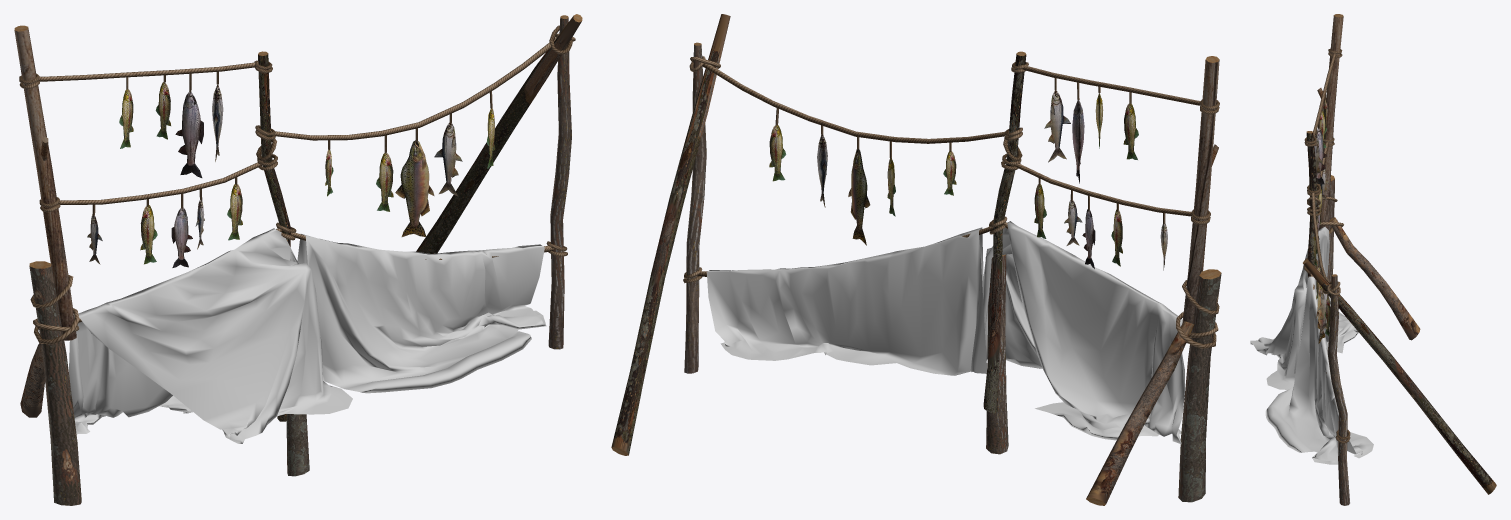
File: village_fishing_gear_02.fbx
The picture shows the model from 3 angles, left to right: view 1: azimuth 30°, elevation 25°; view 2: azimuth 150°, elevation 25°; view 3: azimuth 270°, elevation 25°; orthographic projection. The views are drawn at different scales.
Parts seen in each view (by area): view 1: village_fishing_gear_02; view 2: village_fishing_gear_02; view 3: village_fishing_gear_02.
Part boxes in pixels (<box>): village_fishing_gear_02: <box>14,14,582,505</box>; village_fishing_gear_02: <box>611,14,1221,505</box>; village_fishing_gear_02: <box>1250,14,1496,505</box>.
Bounding box in the file's own units: 479 × 403 × 271.
